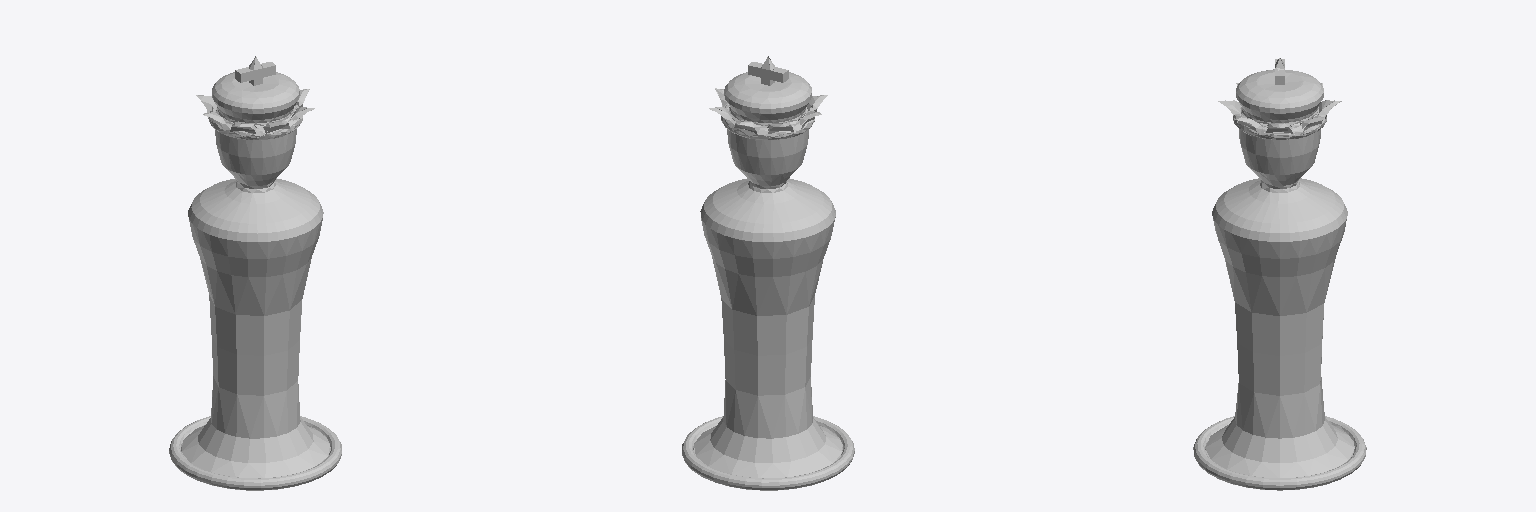
The model's file is KingNewSimplificat.obj.
3 renders of one model, left to right at view 1: azimuth 30°, elevation 25°; view 2: azimuth 150°, elevation 25°; view 3: azimuth 270°, elevation 25°, orthographic.
Visible parts, largest first — view 1: rei3K; view 2: rei3K; view 3: rei3K.
Part boxes in pixels (left/top/right/bottom): rei3K: left=169, top=56, right=341, bottom=490; rei3K: left=682, top=56, right=854, bottom=490; rei3K: left=1193, top=58, right=1366, bottom=490.
Size of the model in its own units: 0.5542 by 1.42 by 0.5551.